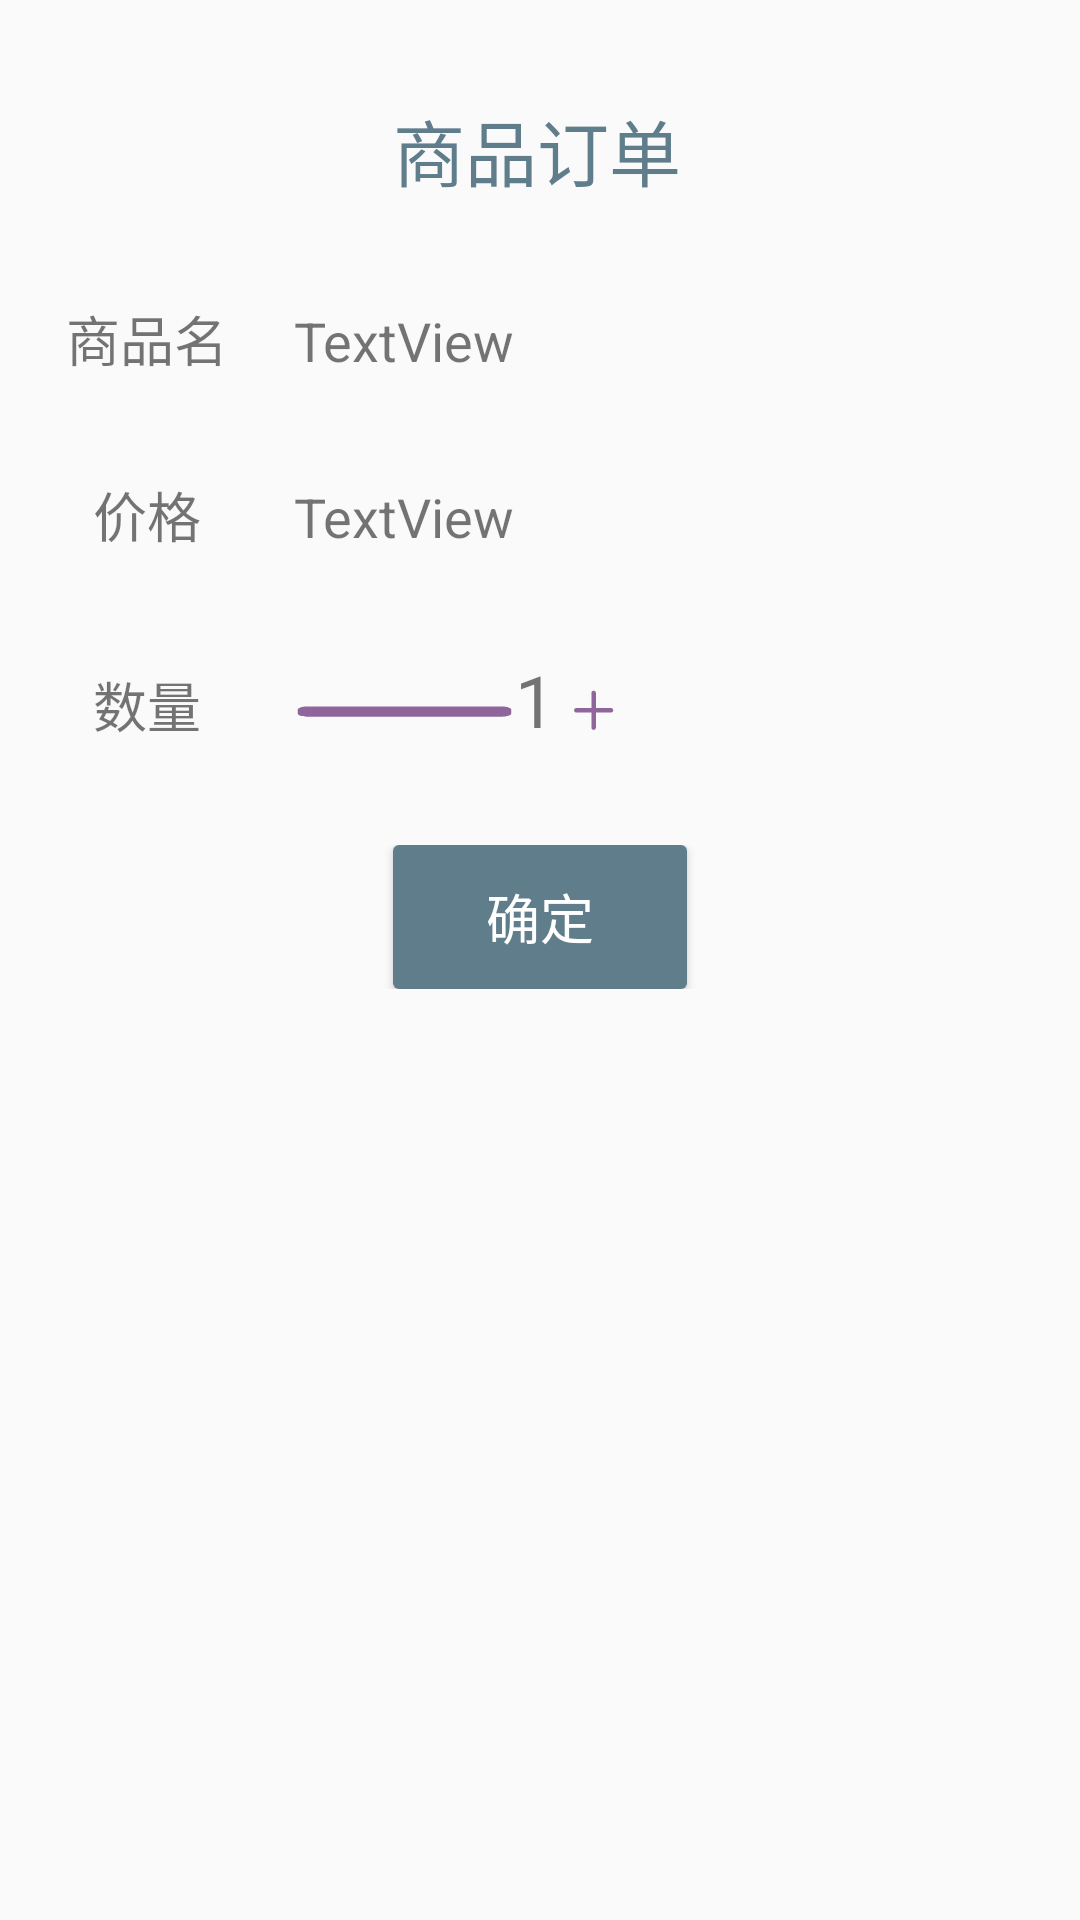

Icons on this 1080*1920 Android screen, each with the point to tap as (x,y):
add: (594,710)
